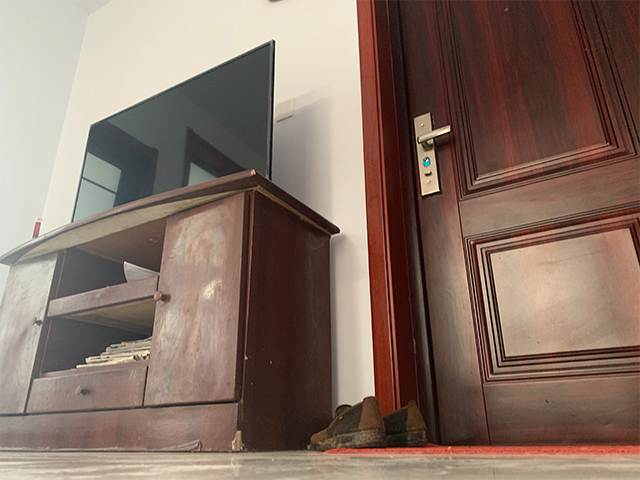cabinet: (1, 168, 341, 453)
carpet: (319, 441, 640, 456)
